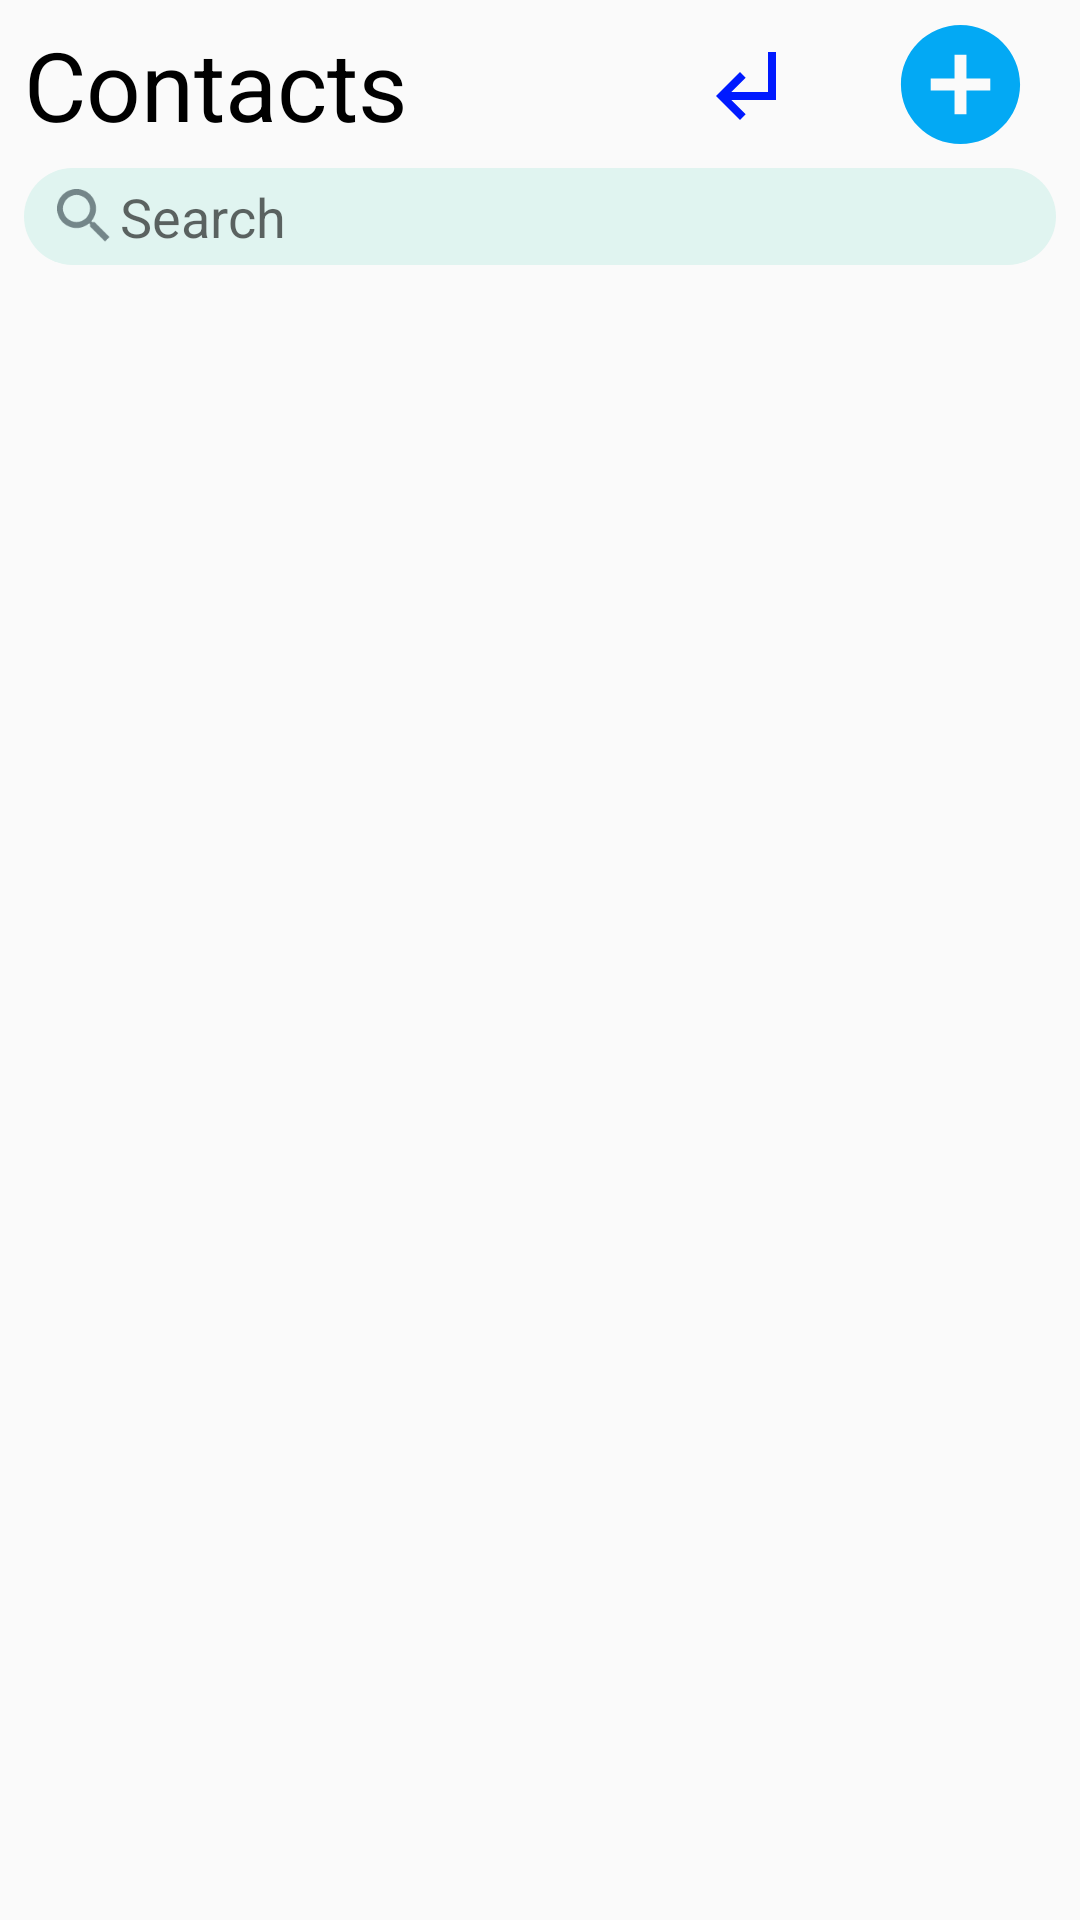

Locate icon controls on the screen. Image size 1080px x 1920px, boxes as (x1, y1, x2, y2).
Add new contact: (901, 25, 1020, 144)
leave: (716, 52, 776, 120)
